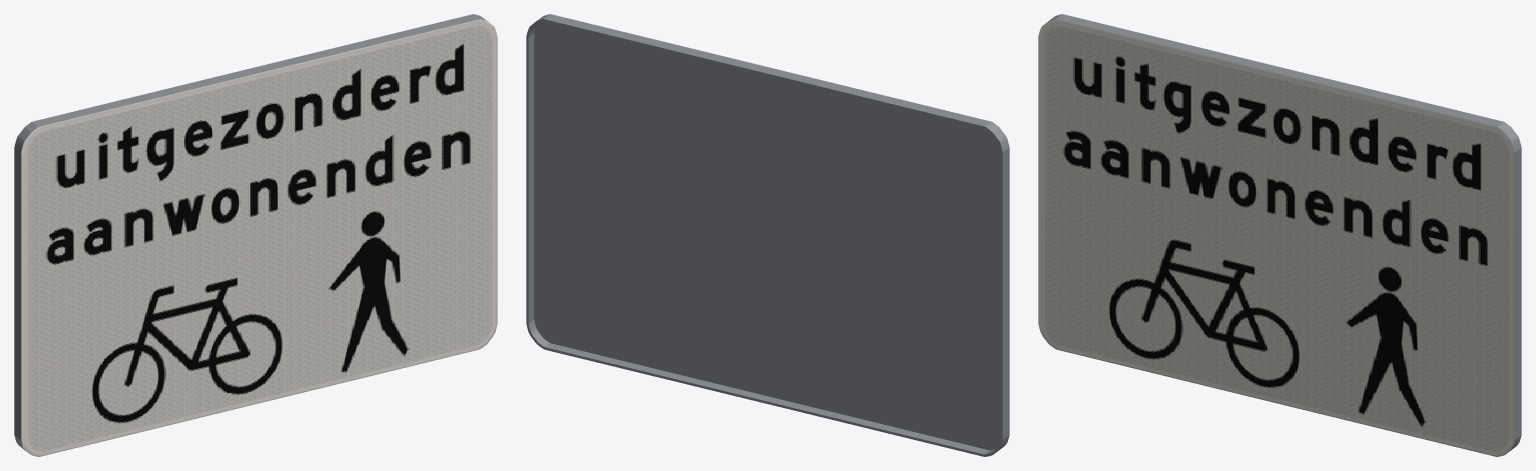
3 views of the same model, side by side, from view 1: azimuth 30°, elevation 25°; view 2: azimuth 150°, elevation 25°; view 3: azimuth 330°, elevation 25° (orthographic).
Parts seen in each view (by area): view 1: cat_c309ab946d9058a6; view 2: cat_c309ab946d9058a6; view 3: cat_c309ab946d9058a6.
Part boxes in pixels (bbox=[...]): cat_c309ab946d9058a6: bbox=[14, 14, 497, 456]; cat_c309ab946d9058a6: bbox=[526, 14, 1009, 456]; cat_c309ab946d9058a6: bbox=[1038, 14, 1521, 456].
Bounding box in the file's own units: 0.6 × 0.015 × 0.3976.
Materials: 2 (1 with a texture image).
